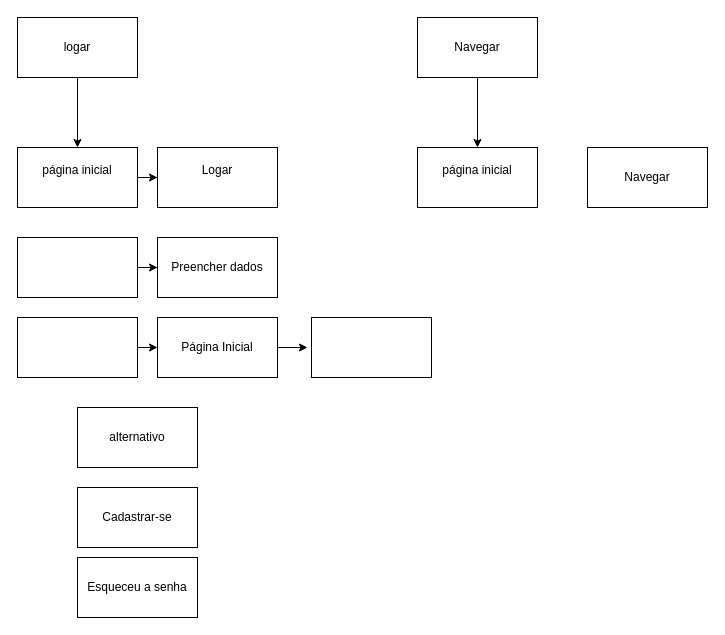
Image size: 725x635. Some labels were removed from this diagram. The centre of each missing label's shape, as x and y in pixels:
"logado" goes at (x=371, y=347).
"Página Login" goes at (x=77, y=267).
"Página Sucesso" goes at (x=77, y=347).
